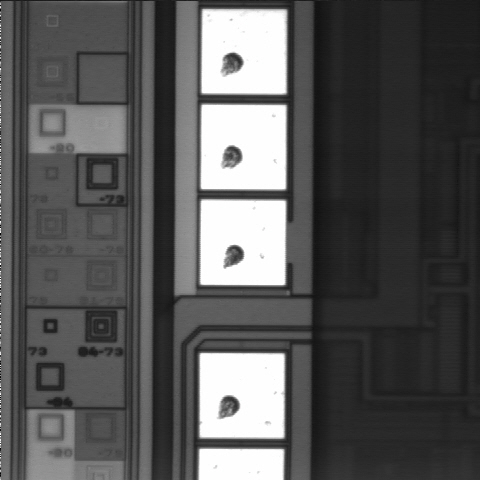pad: (200, 200, 286, 285), (202, 9, 286, 94), (201, 105, 286, 189), (200, 353, 284, 438)
